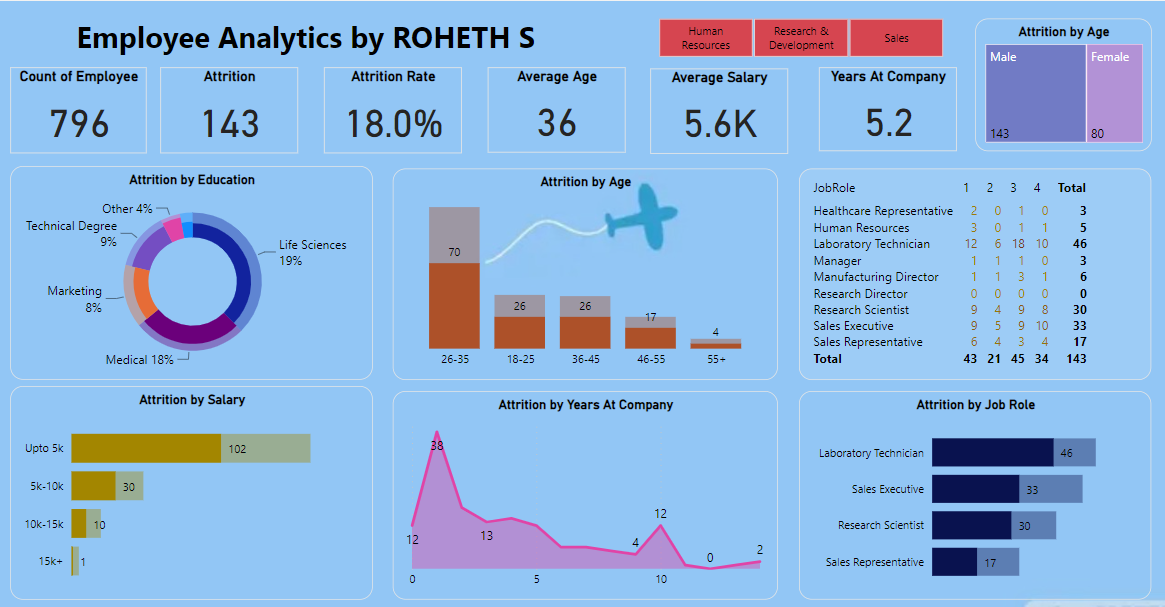

What the dashboard file says about the page in this screenshot:
{"tool":"powerbi","page":{"name":"Page 1","canvas":[1280,720],"ordinal":0},"visuals":[{"type":"card","title":"Count of Employee","fields":{"Values":["Count(HR_Analytics.EmpID)"]},"box":[12.3,122,149.4,94.6],"z":0},{"type":"card","title":"Attrition","fields":{"Values":["Sum(HR_Analytics.AttritionCount)"]},"box":[176.9,122,150.8,94.6],"z":1000},{"type":"card","title":"Attrition Rate","fields":{"Values":["HR_Analytics.AttritionRate"]},"box":[356.5,122,150.8,94.6],"z":2000},{"type":"card","title":"Average Age","fields":{"Values":["Avg(HR_Analytics.Age)"]},"box":[536.1,122,150.8,93.2],"z":3000},{"type":"card","title":"Average Salary","fields":{"Values":["Avg(HR_Analytics.MonthlyIncome)"]},"box":[714.3,123.4,150.8,93.2],"z":4000},{"type":"card","title":" Years At Company","fields":{"Values":["Avg(HR_Analytics.YearsAtCompany)"]},"box":[899.4,122,150.8,91.9],"z":5000},{"type":"donutChart","title":"Attrition by Education","fields":{"Category":["HR_Analytics.EducationField"],"Y":["Sum(HR_Analytics.AttritionCount)"]},"box":[12.3,230.3,397.6,234.4],"z":6000},{"type":"columnChart","title":"Attrition by Age","fields":{"Y":["Sum(HR_Analytics.AttritionCount)"],"Category":["HR_Analytics.AgeGroup"]},"box":[431.9,233.1,422.3,231.7],"z":7000},{"type":"pivotTable","fields":{"Rows":["HR_Analytics.JobRole"],"Columns":["HR_Analytics.JobSatisfaction"],"Values":["Sum(HR_Analytics.AttritionCount)"]},"box":[877.5,233.1,386.6,231.7],"z":8000},{"type":"barChart","title":"Attrition by Salary","fields":{"Category":["HR_Analytics.SalarySlab"],"Y":["Sum(HR_Analytics.AttritionCount)"]},"box":[12.3,471.6,397.6,234.4],"z":8001},{"type":"barChart","title":"Attrition by Job Role","fields":{"Y":["Sum(HR_Analytics.AttritionCount)"],"Category":["HR_Analytics.JobRole"]},"box":[877.5,477.1,386.6,229],"z":8003},{"type":"areaChart","title":"Attrition by Years At Company","fields":{"Category":["HR_Analytics.YearsAtCompany"],"Y":["Sum(HR_Analytics.AttritionCount)"]},"box":[431.9,477.1,422.3,229],"z":8004},{"type":"textbox","box":[0,61.7,673.2,52.1],"z":8005},{"type":"treemap","title":"Attrition by Age","fields":{"Group":["HR_Analytics.Gender"],"Values":["Sum(HR_Analytics.AttritionCount)"]},"box":[1070.8,68.6,193.3,145.3],"z":8006},{"type":"slicer","fields":{"Values":["HR_Analytics.Department"]},"box":[703.4,62.1,356.3,51.7],"z":8007}]}

Visuals, with their boxes on the page's 1280x720 design canvas (x1, y1, x2, y2). These are canvas units, not pixel positions in the 1165x607 screenshot, which may show the page scaled, cropped or inside an application window:
"Count of Employee" card: <bbox>12, 122, 162, 217</bbox>
"Attrition" card: <bbox>177, 122, 328, 217</bbox>
"Attrition Rate" card: <bbox>356, 122, 507, 217</bbox>
"Average Age" card: <bbox>536, 122, 687, 215</bbox>
"Average Salary" card: <bbox>714, 123, 865, 217</bbox>
" Years At Company" card: <bbox>899, 122, 1050, 214</bbox>
"Attrition by Education" donutChart: <bbox>12, 230, 410, 465</bbox>
"Attrition by Age" columnChart: <bbox>432, 233, 854, 465</bbox>
pivotTable - HR_Analytics.JobRole x HR_Analytics.JobSatisfaction: <bbox>878, 233, 1264, 465</bbox>
"Attrition by Salary" barChart: <bbox>12, 472, 410, 706</bbox>
"Attrition by Job Role" barChart: <bbox>878, 477, 1264, 706</bbox>
"Attrition by Years At Company" areaChart: <bbox>432, 477, 854, 706</bbox>
textbox: <bbox>0, 62, 673, 114</bbox>
"Attrition by Age" treemap: <bbox>1071, 69, 1264, 214</bbox>
slicer - HR_Analytics.Department: <bbox>703, 62, 1060, 114</bbox>
